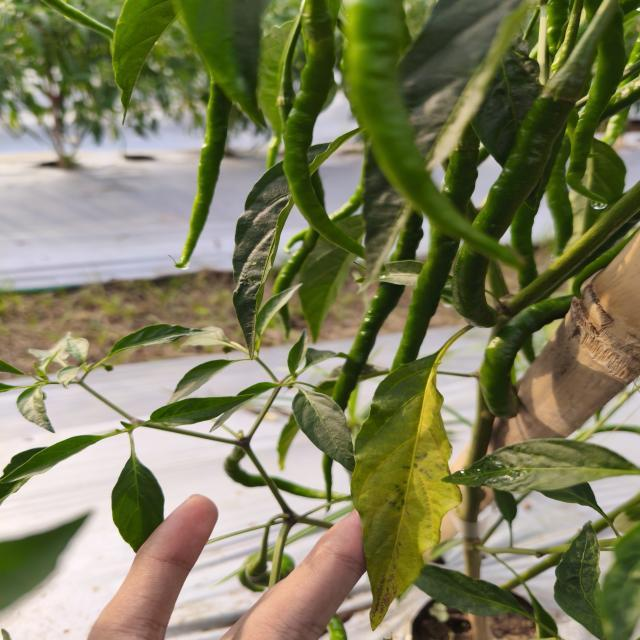Buah Cabai Sehat: (336, 0, 529, 273), (280, 9, 372, 266)
Daun Cabai Sehat: (232, 140, 335, 359)
Virus Kuning: (348, 351, 469, 630), (438, 435, 640, 496)
